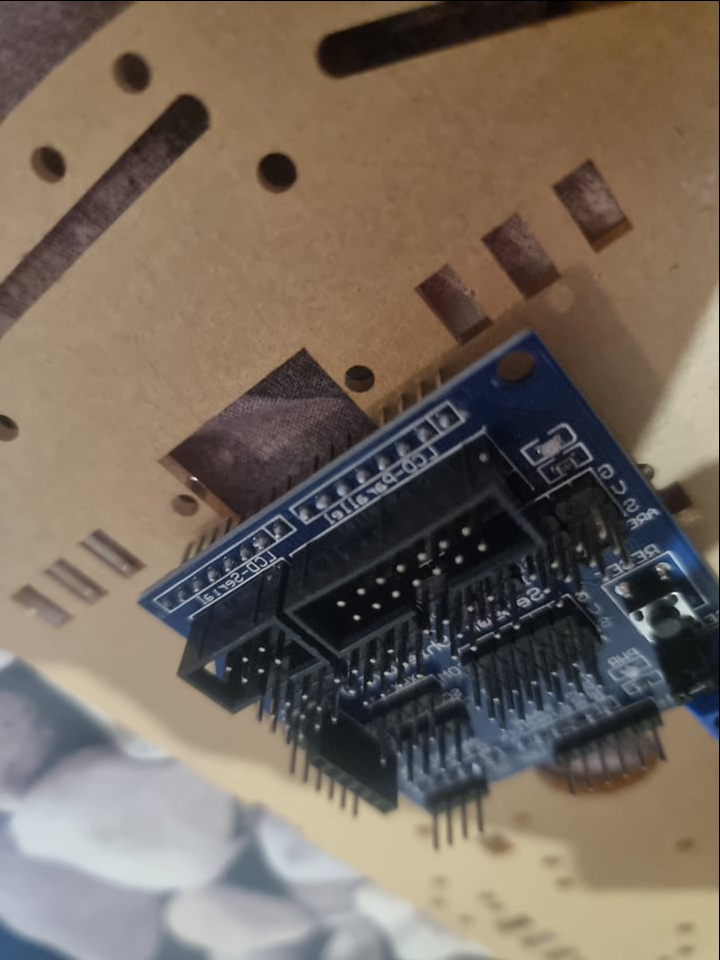5V EXPANSION: (139, 326, 720, 850)
